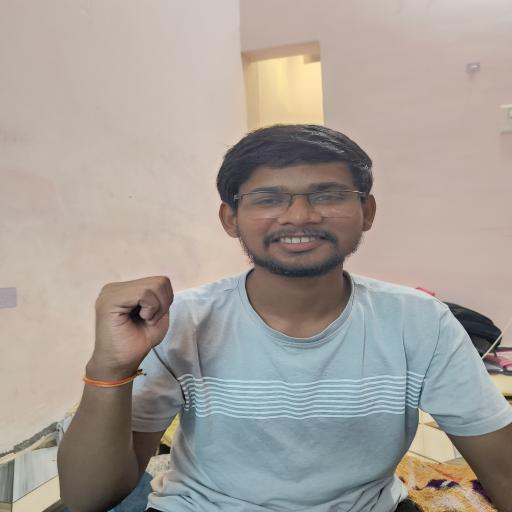wait: (75, 264, 209, 394)
